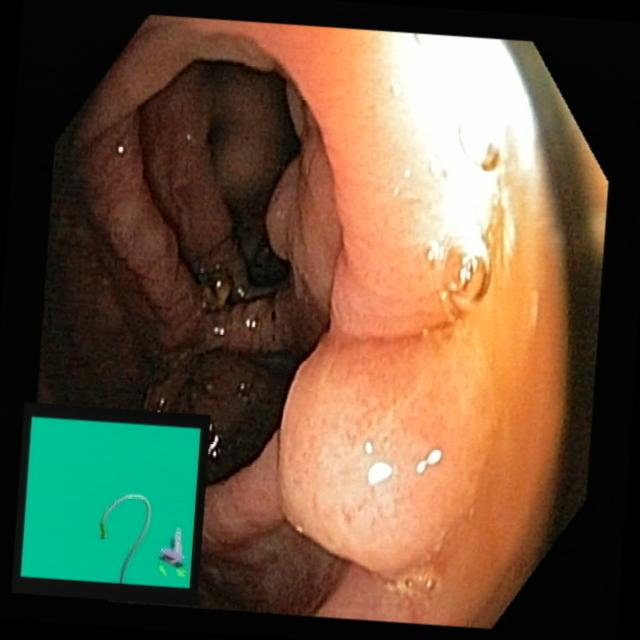Polyps: (274, 310, 503, 582)
